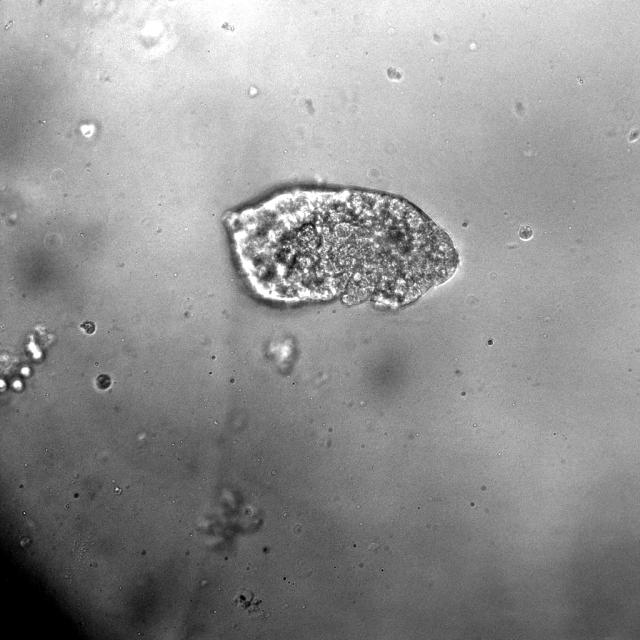organoid: (224, 187, 459, 308), (196, 487, 263, 550), (0, 327, 54, 393), (265, 336, 299, 375), (94, 373, 112, 391), (80, 319, 96, 335), (518, 224, 533, 241)
